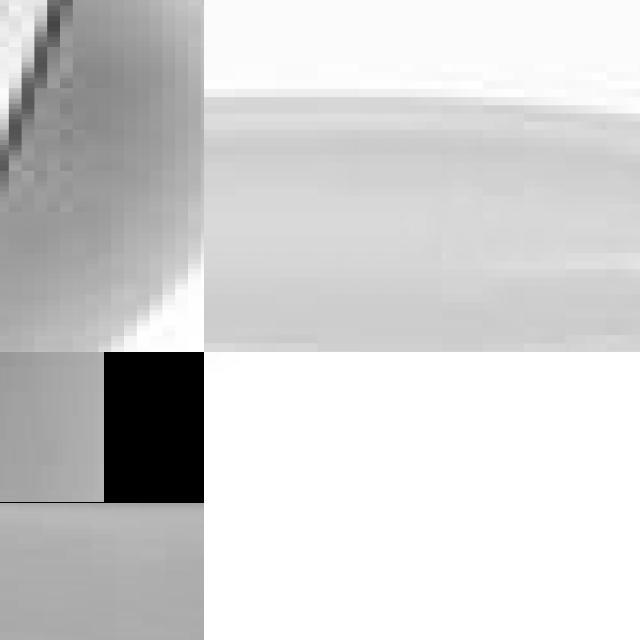spoons: (0, 0, 204, 352), (0, 422, 184, 640)
